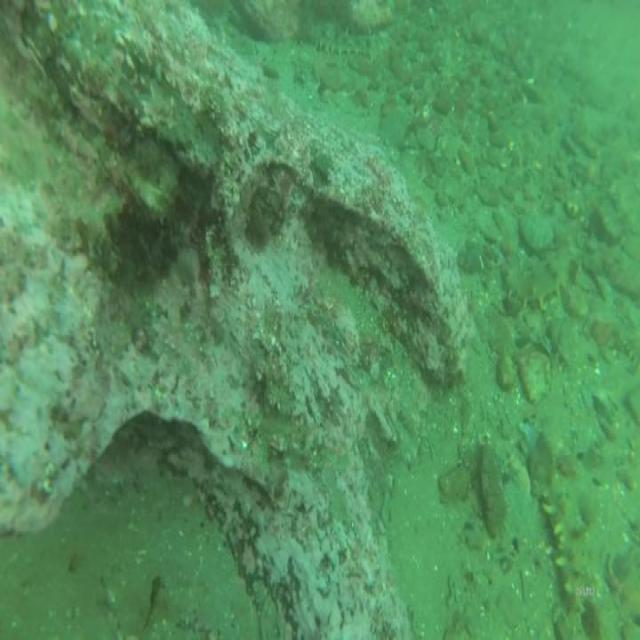holothurian: (540, 482, 583, 615), (506, 268, 570, 318), (311, 35, 375, 63)
